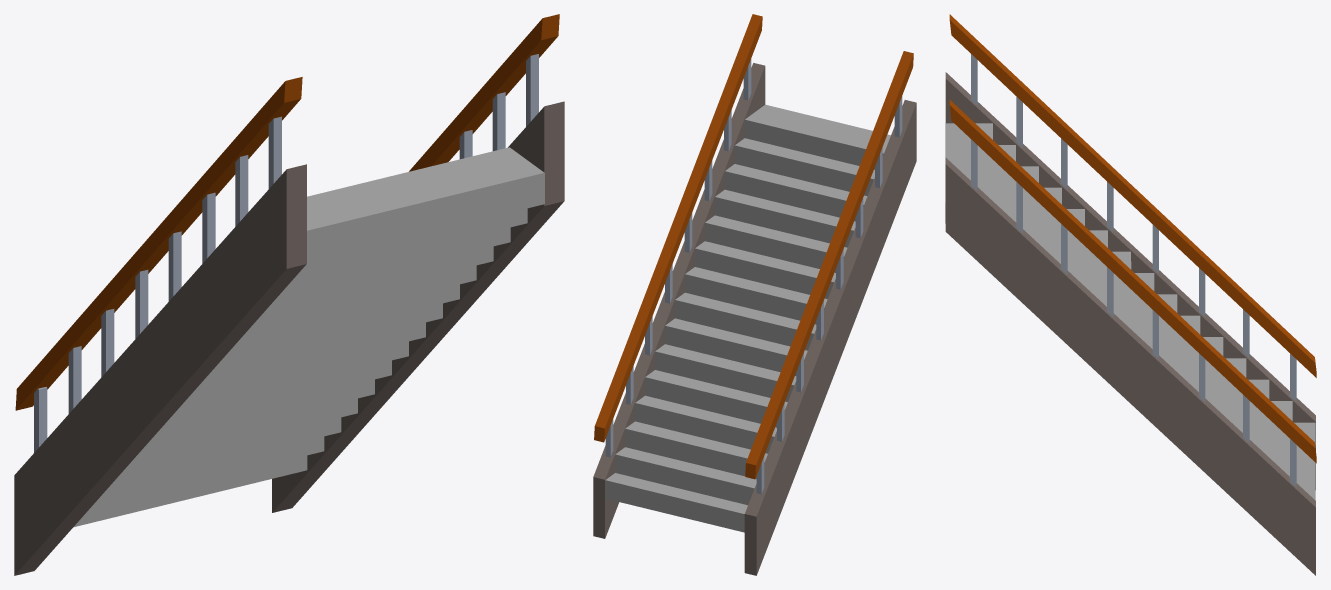
The model's file is Final ladder.fbx.
3 renders of one model, left to right at view 1: azimuth 30°, elevation 25°; view 2: azimuth 150°, elevation 25°; view 3: azimuth 270°, elevation 25°, orthographic. The views are drawn at different scales.
Parts seen in each view (by area): view 1: Steps 2.008, Plane.001, Railings; view 2: Steps 2.008, Plane.001, Railings; view 3: Plane.001, Railings, Steps 2.008.
Boxes of the visible parts, bbox=[...] form: Steps 2.008: bbox=[73, 147, 544, 527]; Plane.001: bbox=[14, 101, 564, 575]; Railings: bbox=[15, 14, 559, 452]; Steps 2.008: bbox=[605, 104, 890, 532]; Plane.001: bbox=[593, 63, 916, 575]; Railings: bbox=[594, 14, 913, 494]; Plane.001: bbox=[945, 72, 1315, 575]; Railings: bbox=[949, 14, 1316, 486]; Steps 2.008: bbox=[945, 123, 1315, 500].
Size of the model in its own units: 282 by 671 by 480.
